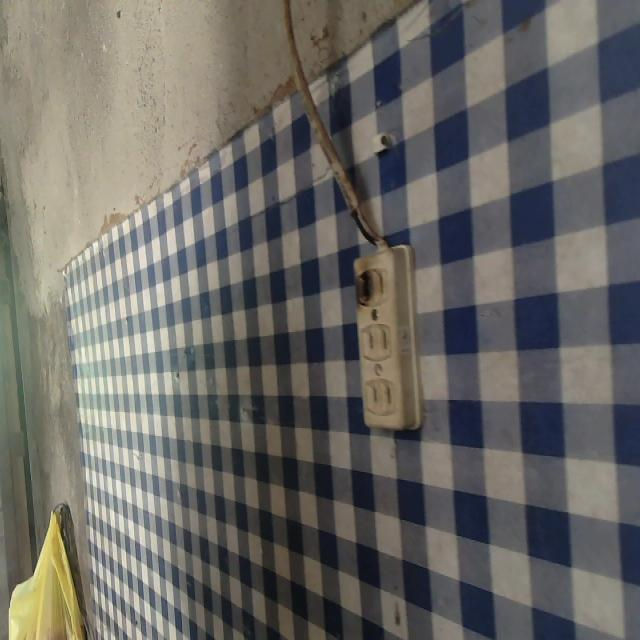-: (352, 264, 373, 308)
